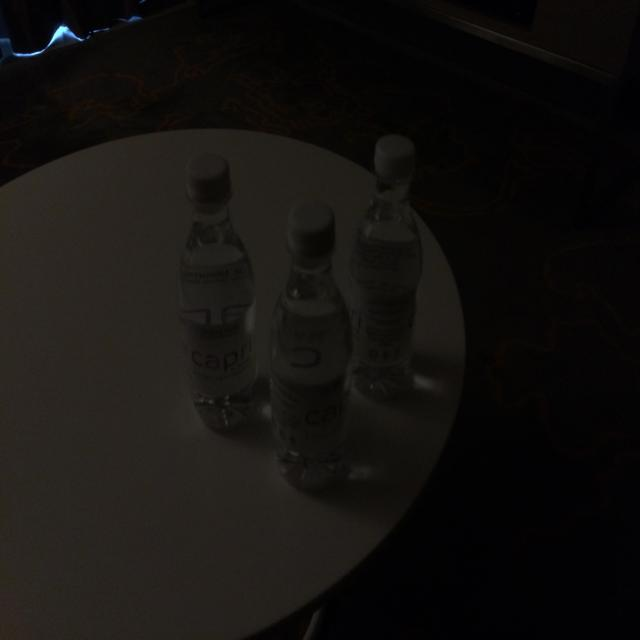Bottle: (246, 173, 354, 492), (170, 125, 267, 457), (347, 126, 430, 407)
Table: (0, 93, 480, 640)
